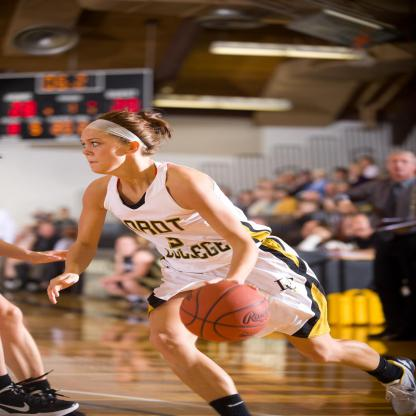face: (82, 126, 131, 173), (389, 154, 413, 176)
